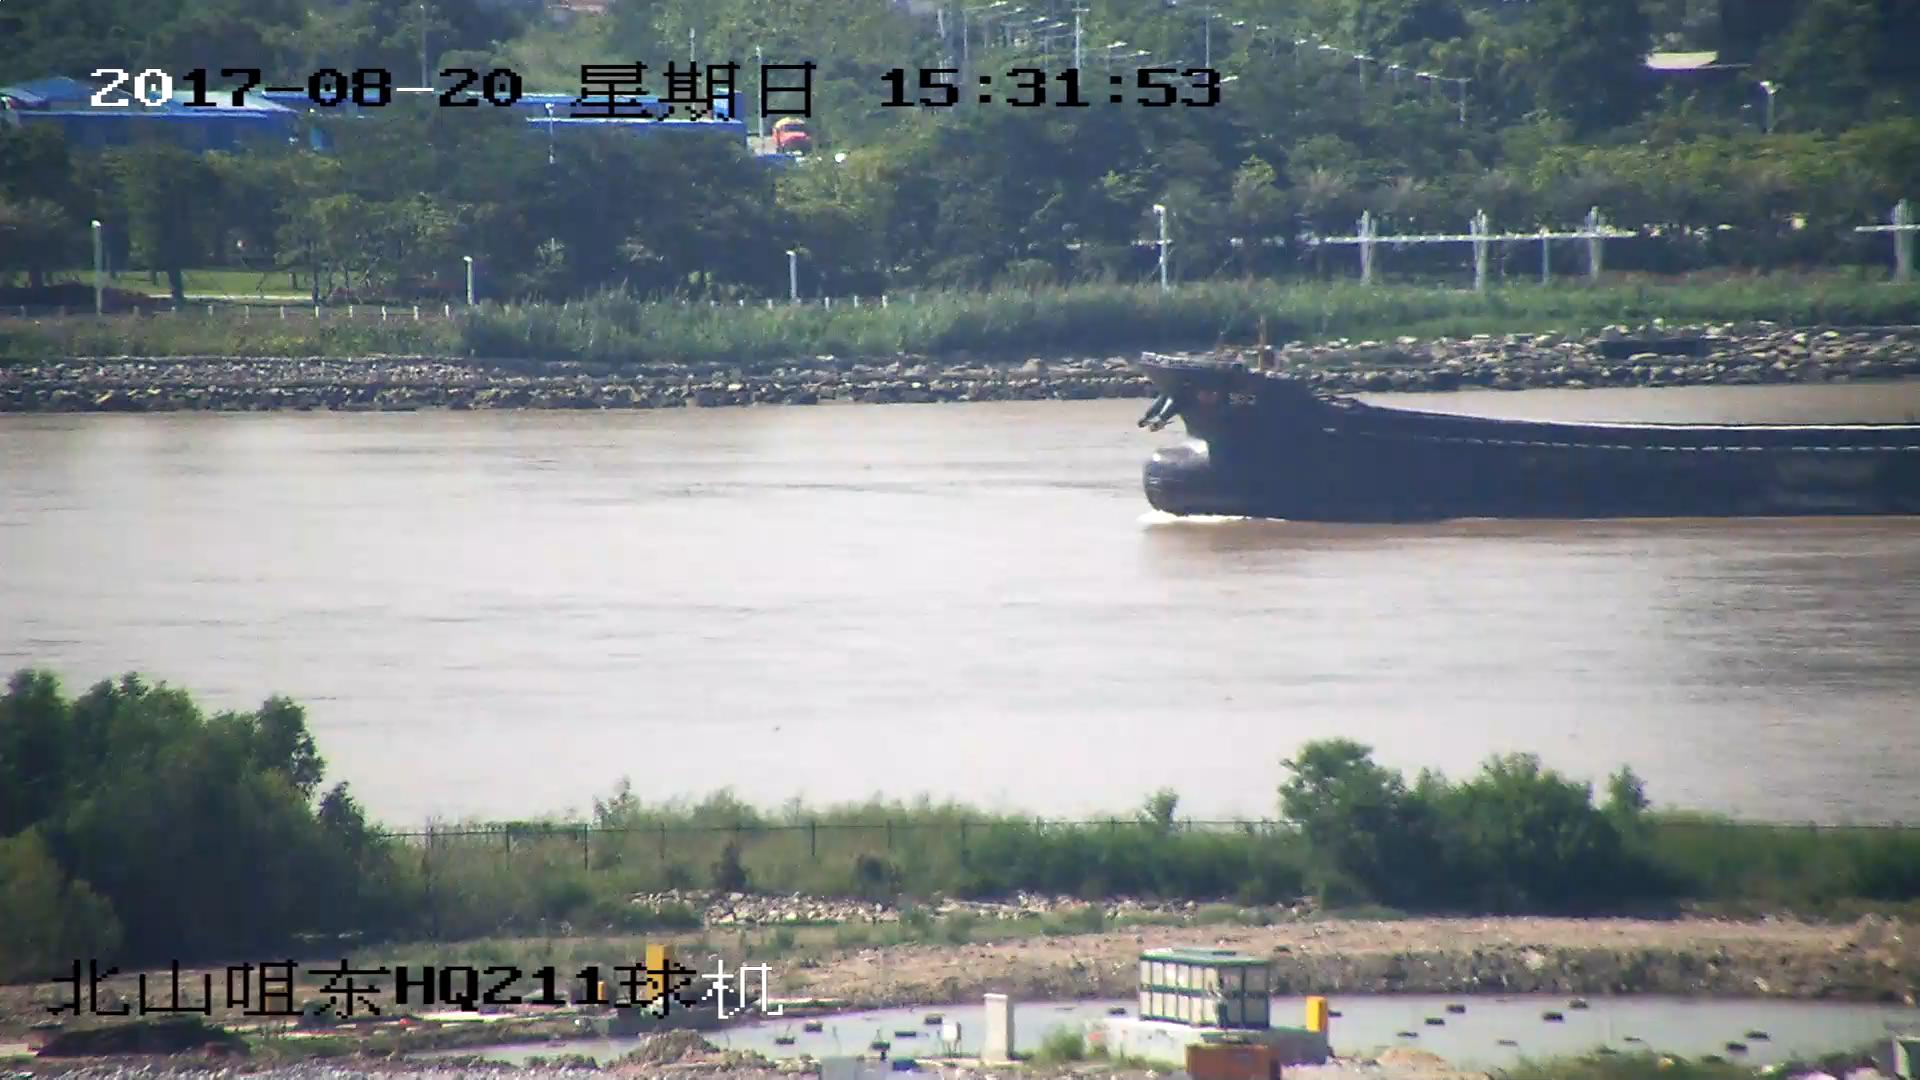general cargo ship: (1135, 358, 1920, 523)
